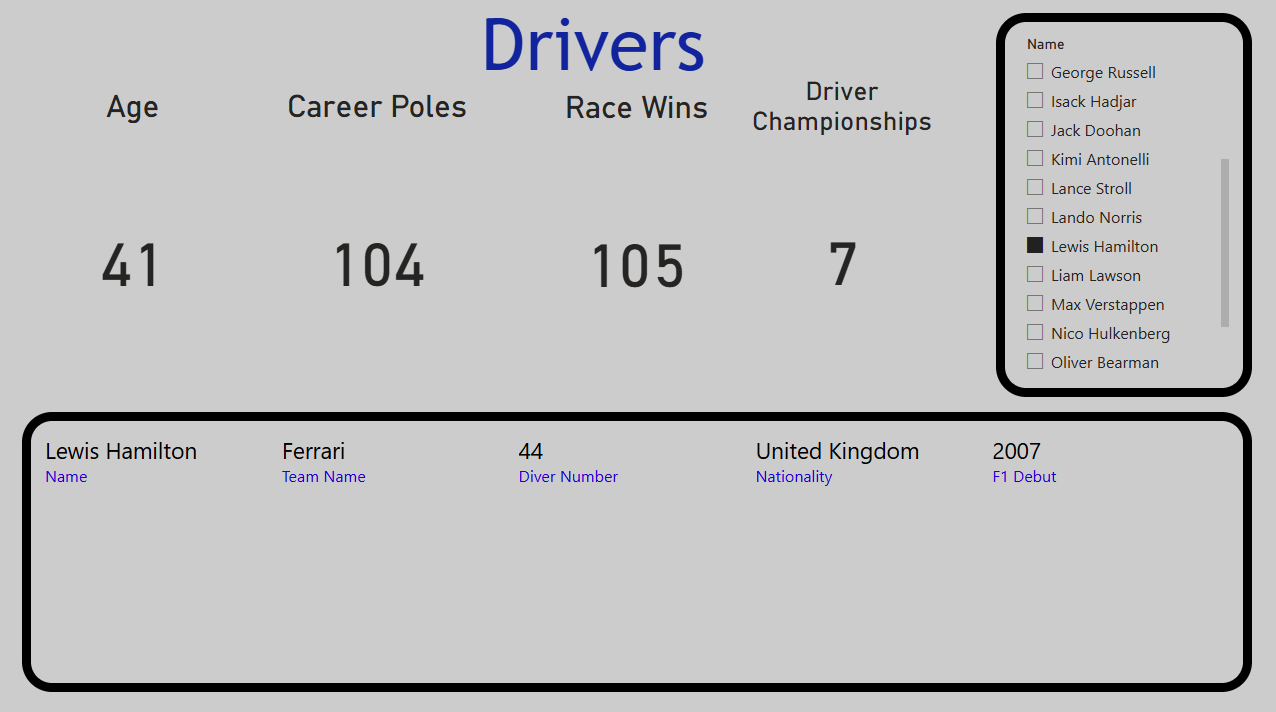

The dashboard page shown, as its layout file describes it:
{"tool":"powerbi","page":{"name":"Drivers","canvas":[1280,720],"ordinal":2},"visuals":[{"type":"multiRowCard","fields":{"Values":["Drivers_2025.Name","Constructors_2025.Team Name","Drivers_2025.Diver Number","Drivers_2025.Nationality","Drivers_2025.F1 Debut"]},"box":[24.6,414.6,1230.9,280.5],"z":0},{"type":"slicer","fields":{"Values":["Drivers_2025.Name"]},"box":[999.2,16.3,256.1,383.7],"z":1000},{"type":"textbox","box":[478.9,0,245.5,97.6],"z":2000},{"type":"card","fields":{"Values":["Drivers_2025.Poles"]},"box":[281.3,91.1,197.6,303.3],"z":3000},{"type":"card","fields":{"Values":["Drivers_2025.Wins"]},"box":[540.7,91.9,197.6,302.4],"z":4000},{"type":"card","fields":{"Values":["Drivers_2025.Driver Championships"]},"box":[746.3,78,197.6,302.4],"z":5000},{"type":"card","fields":{"Values":["Drivers_2025.Age"]},"box":[36.6,91.1,197.6,302.4],"z":6000}]}

Visuals, with their boxes in screenshot pixels (x1, y1, x2, y2), scaled from the page's 1280x720 canvas onto the 1276x712 screenshot:
multiRowCard - Drivers_2025.Name x Constructors_2025.Team Name: 25:410:1252:687
slicer - Drivers_2025.Name: 996:16:1251:396
textbox: 477:0:722:97
card - Drivers_2025.Poles: 280:90:477:390
card - Drivers_2025.Wins: 539:91:736:390
card - Drivers_2025.Driver Championships: 744:77:941:376
card - Drivers_2025.Age: 36:90:233:389
